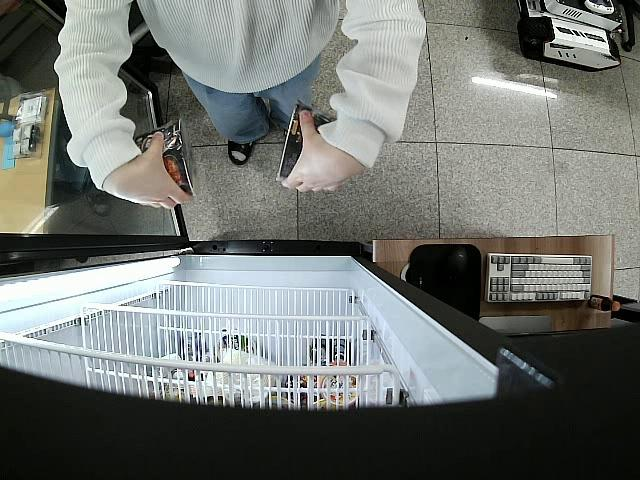00_hand: (107, 131, 193, 210), (279, 110, 355, 194)
07_buldak_L: (128, 117, 197, 199), (276, 100, 339, 186)
